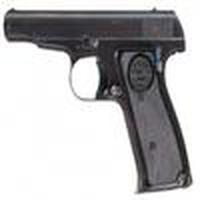gun: (2, 7, 199, 195)
